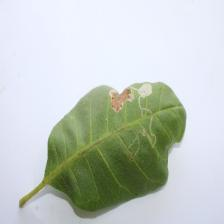leaf miner: (109, 85, 159, 112)
